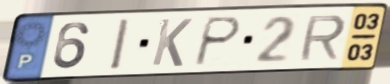2: (254, 14, 299, 65)
6: (52, 20, 92, 71)
I: (109, 16, 133, 72)
K: (149, 17, 195, 69)
P: (190, 15, 244, 68)
R: (296, 13, 349, 63)
